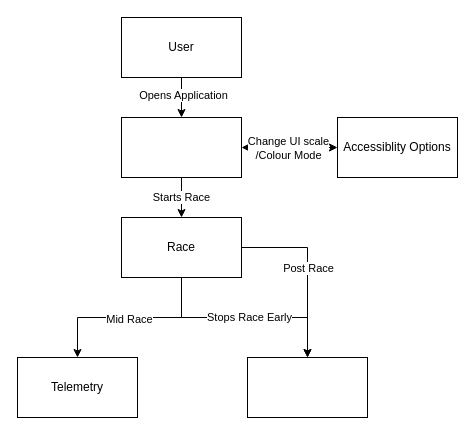
Some shapes in this 475 by 435 pixel diagram are drawn without their labels. Each missing label, with the centre of its shape:
Main Menu: the point at 181,147
Race Results: the point at 307,387
